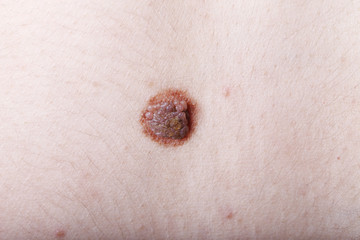melanoma: (127, 74, 219, 154)
